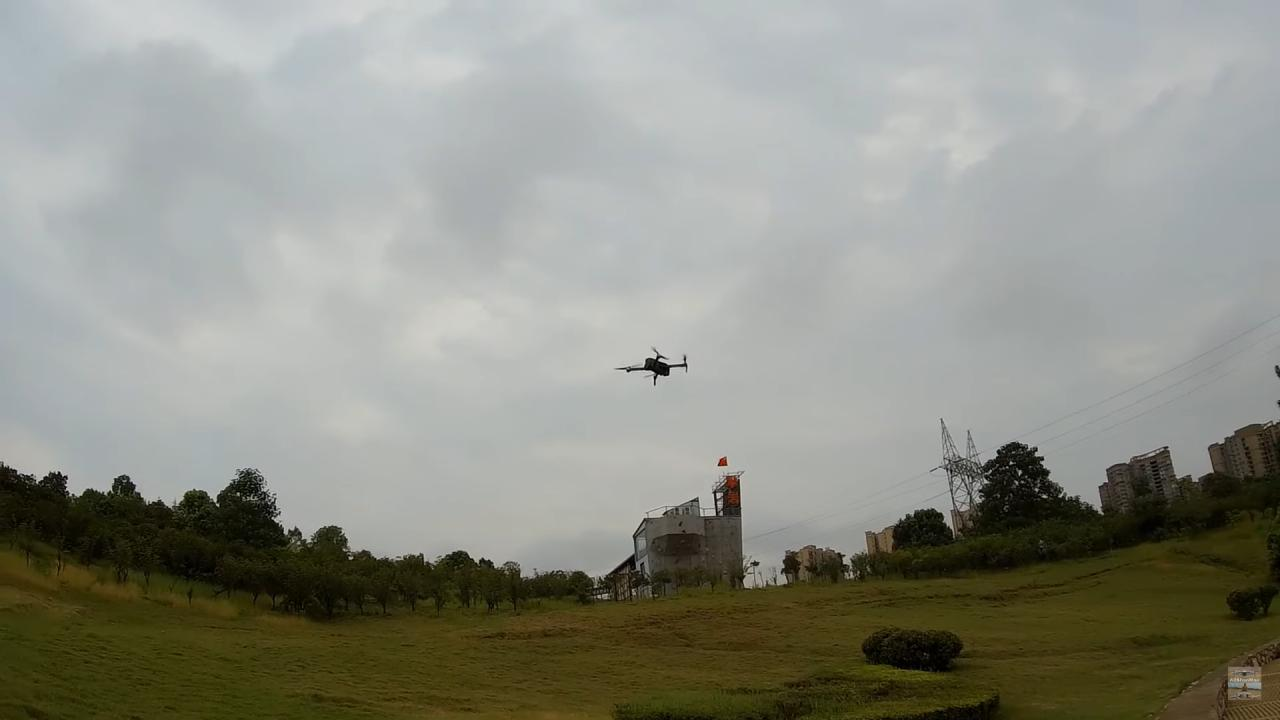Drone: (602, 336, 701, 394)
